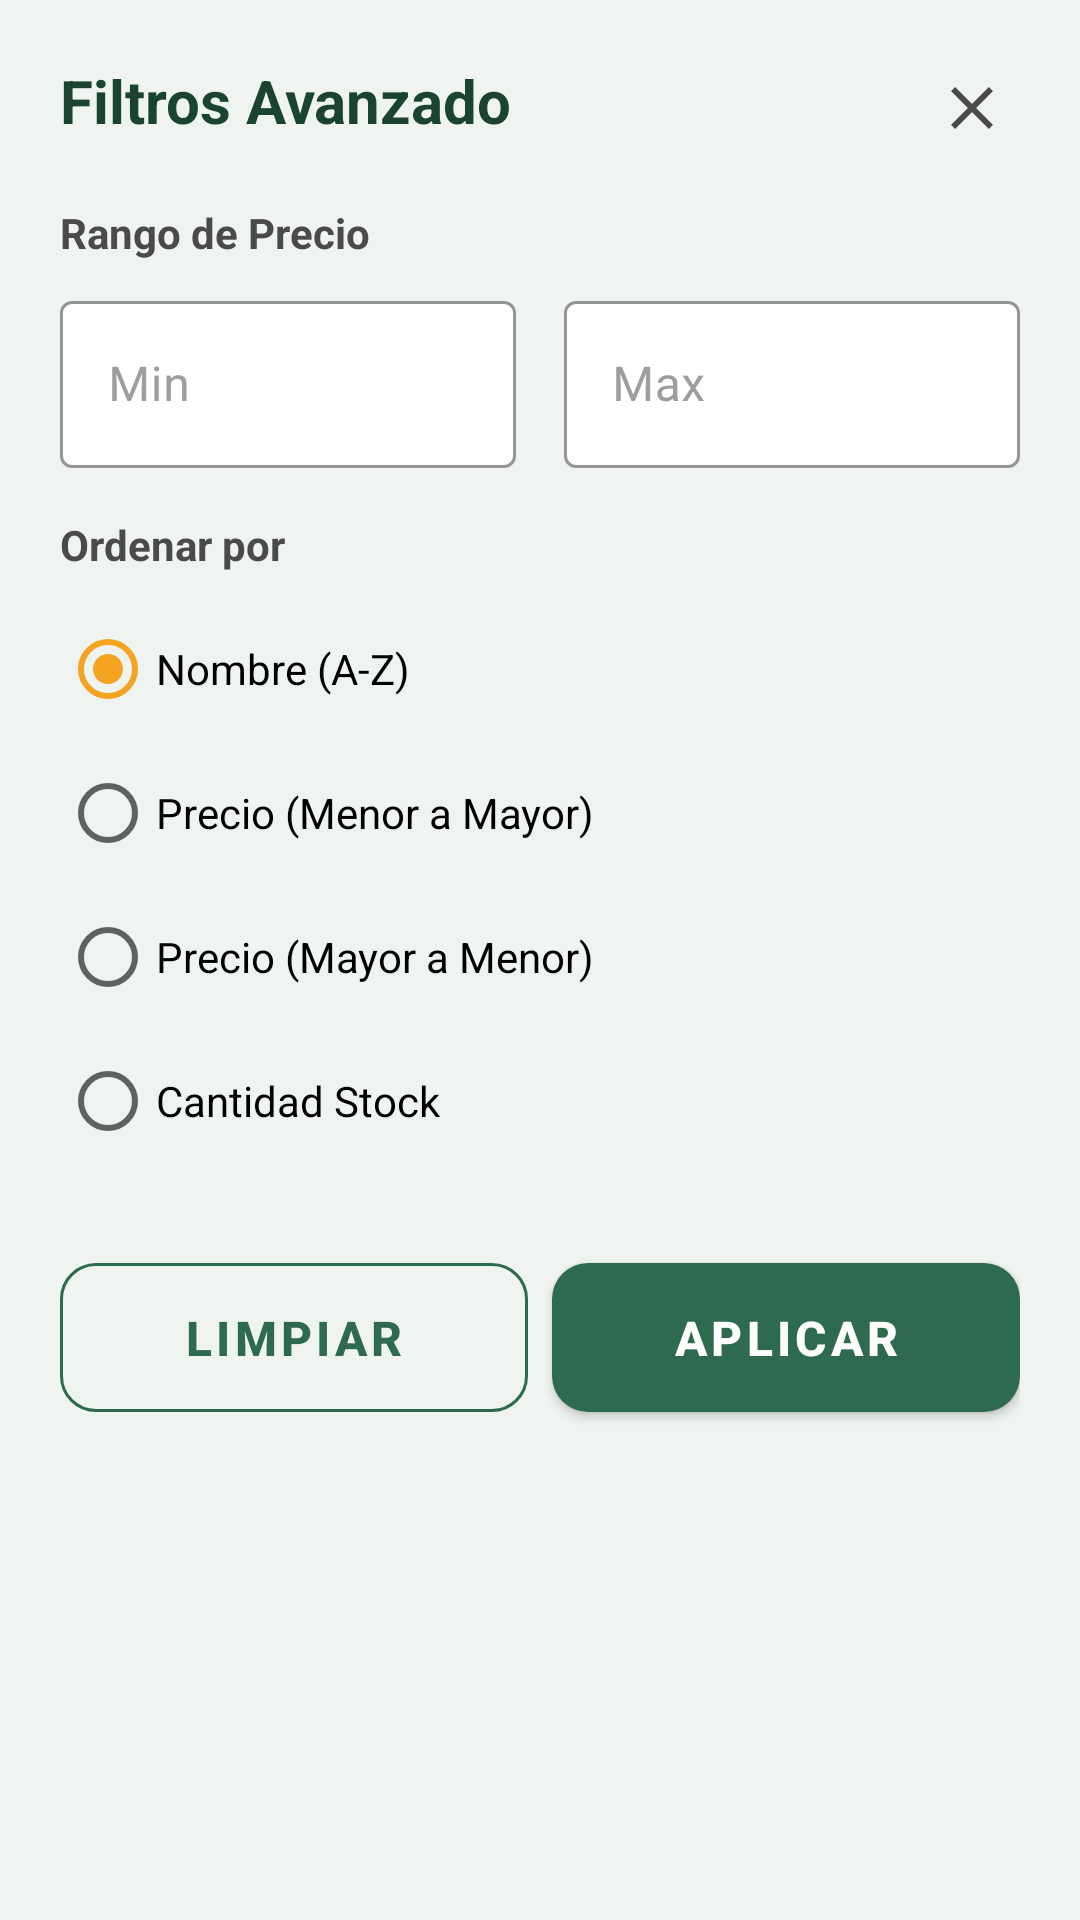

Named icons in this screenshot (1080x1920) and their centers, (x=x, y=y):
cerrar: (x=972, y=108)
